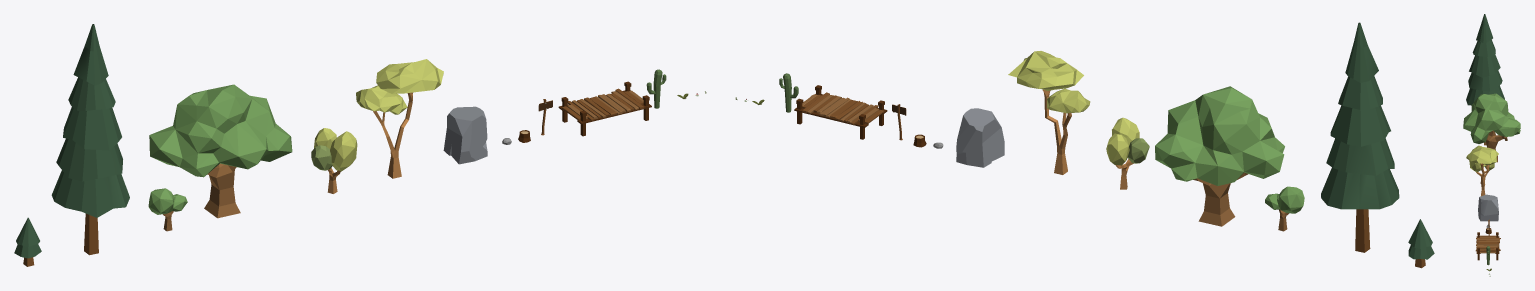
Rendered from forest.glb.
The picture shows the model from 3 angles, left to right: view 1: azimuth 30°, elevation 25°; view 2: azimuth 150°, elevation 25°; view 3: azimuth 270°, elevation 25°; orthographic projection. The views are drawn at different scales.
Visible parts, largest first — view 1: Tree_Forest_06, Pine_Green_01, SavannahTree_05, Bridege_FlatWalkAway_01, ROCK_2.003, SavannahTree_02, Tree_Forest_03, Pine_Green_04; view 2: Tree_Forest_06, Pine_Green_01, SavannahTree_05, ROCK_2.003, Bridege_FlatWalkAway_01, SavannahTree_02, Tree_Forest_03, Pine_Green_04; view 3: Tree_Forest_06, Pine_Green_01, SavannahTree_05, ROCK_2.003, Bridege_FlatWalkAway_01, SavannahTree_02, Cactus_Medium.
Part boxes in pixels (x1,y1,x2,y2): Tree_Forest_06: [149, 84, 292, 218]; Pine_Green_01: [51, 24, 129, 255]; SavannahTree_05: [356, 59, 443, 178]; Bridege_FlatWalkAway_01: [558, 81, 651, 136]; ROCK_2.003: [443, 106, 487, 164]; SavannahTree_02: [311, 128, 357, 193]; Tree_Forest_03: [148, 188, 187, 231]; Pine_Green_04: [14, 217, 41, 266]; Tree_Forest_06: [1155, 86, 1284, 226]; Pine_Green_01: [1321, 22, 1399, 252]; SavannahTree_05: [1008, 51, 1090, 174]; ROCK_2.003: [956, 108, 1004, 167]; Bridege_FlatWalkAway_01: [794, 85, 887, 139]; SavannahTree_02: [1106, 117, 1149, 189]; Tree_Forest_03: [1265, 186, 1304, 231]; Pine_Green_04: [1408, 219, 1434, 268]; Tree_Forest_06: [1463, 93, 1520, 162]; Pine_Green_01: [1466, 14, 1504, 105]; SavannahTree_05: [1466, 145, 1498, 196]; ROCK_2.003: [1478, 194, 1498, 221]; Bridege_FlatWalkAway_01: [1475, 232, 1500, 260]; SavannahTree_02: [1469, 160, 1494, 184]; Cactus_Medium: [1486, 246, 1490, 265].
Size of the model in its own units: 37.44 by 11.72 by 5.41.
